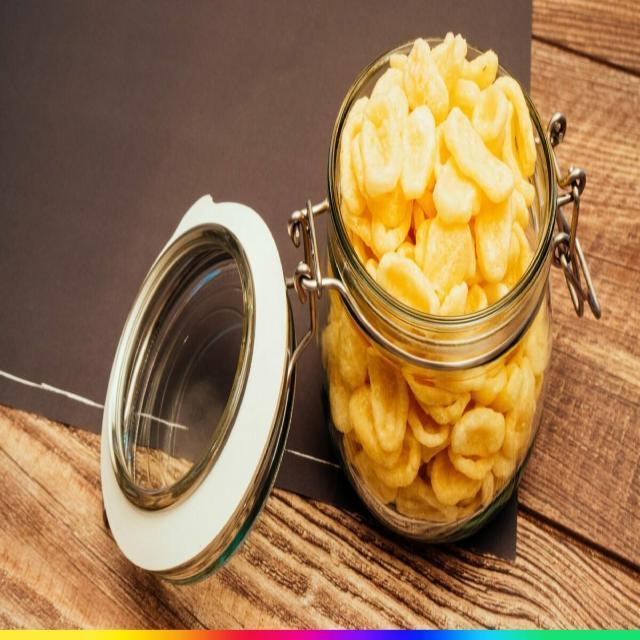Chips packaged: (346, 46, 538, 303)
